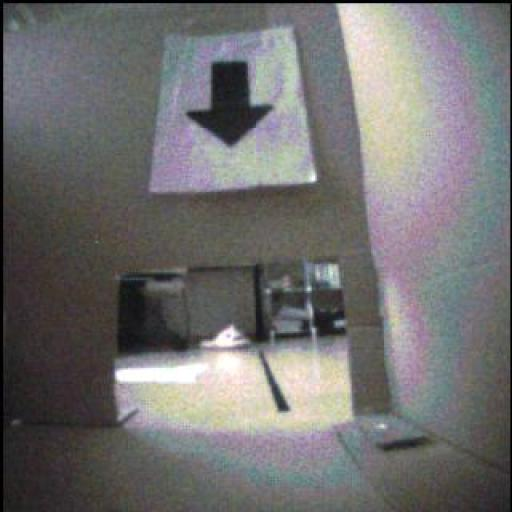arrow: (188, 62, 273, 147)
